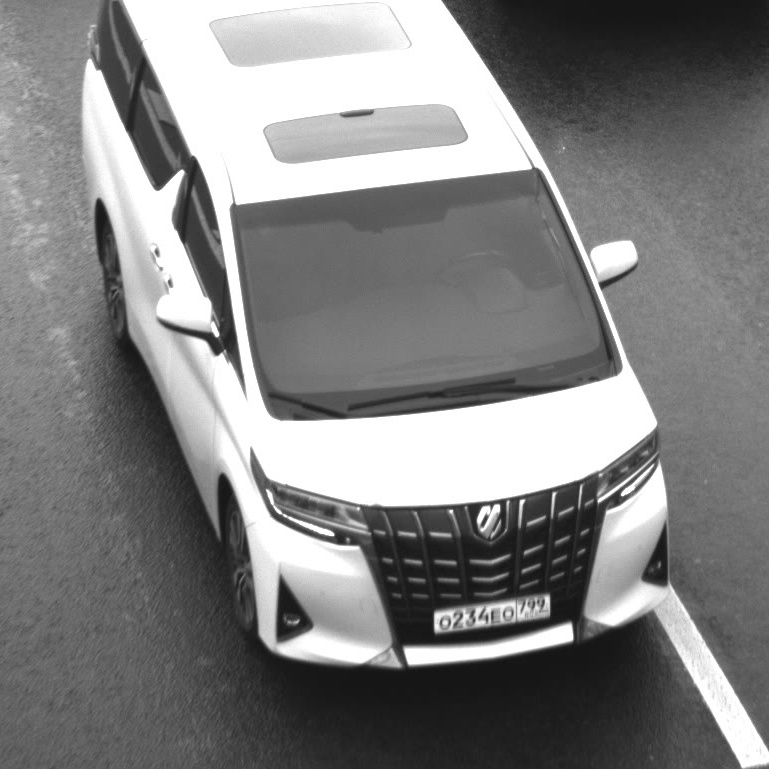plate: (423, 583, 560, 641)
